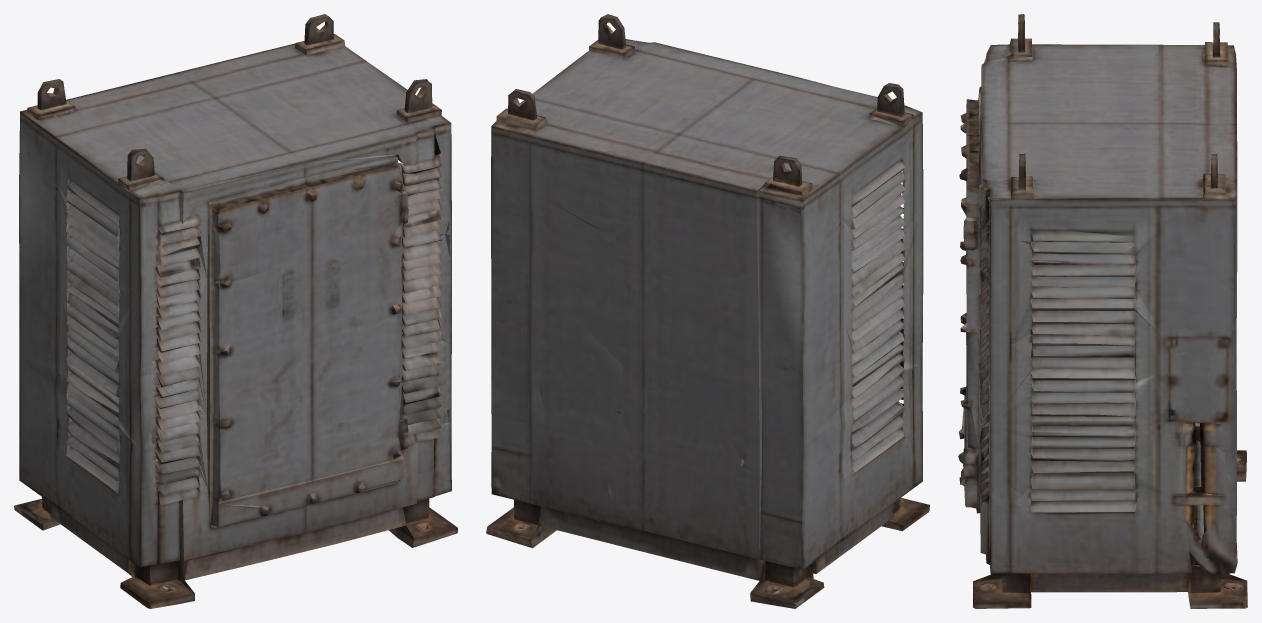
The model's file is p7-dry-transformer.glb.
The picture shows the model from 3 angles, left to right: view 1: azimuth 30°, elevation 25°; view 2: azimuth 150°, elevation 25°; view 3: azimuth 270°, elevation 25°; orthographic projection.
Visible parts, largest first — view 1: p7-dry-transformer; view 2: p7-dry-transformer; view 3: p7-dry-transformer.
Boxes of the visible parts, <box> form: p7-dry-transformer: <box>14,14,457,608</box>; p7-dry-transformer: <box>486,14,929,608</box>; p7-dry-transformer: <box>958,14,1247,608</box>.
Bounding box in the file's own units: 0.9 × 1.2 × 0.7.
Materials: 1 (1 with a texture image).
